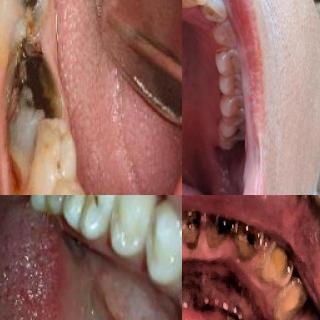cavities: (0, 41, 62, 195), (64, 195, 114, 219), (233, 226, 267, 258), (202, 208, 232, 242), (182, 209, 199, 241), (233, 126, 243, 140)
stains: (213, 45, 231, 67), (198, 7, 214, 27), (210, 21, 223, 41), (181, 0, 196, 8)
